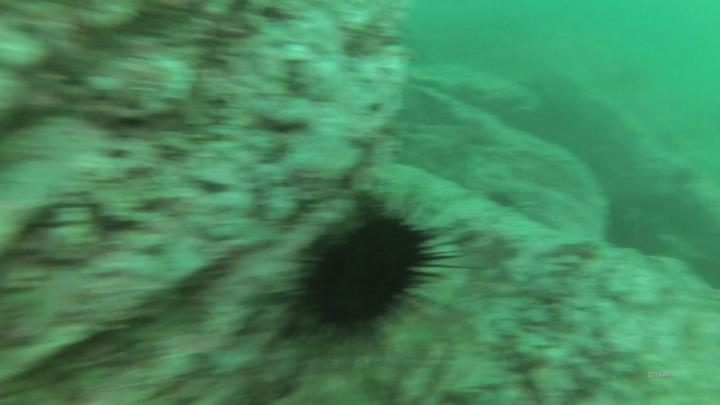echinus: (264, 197, 468, 358)
